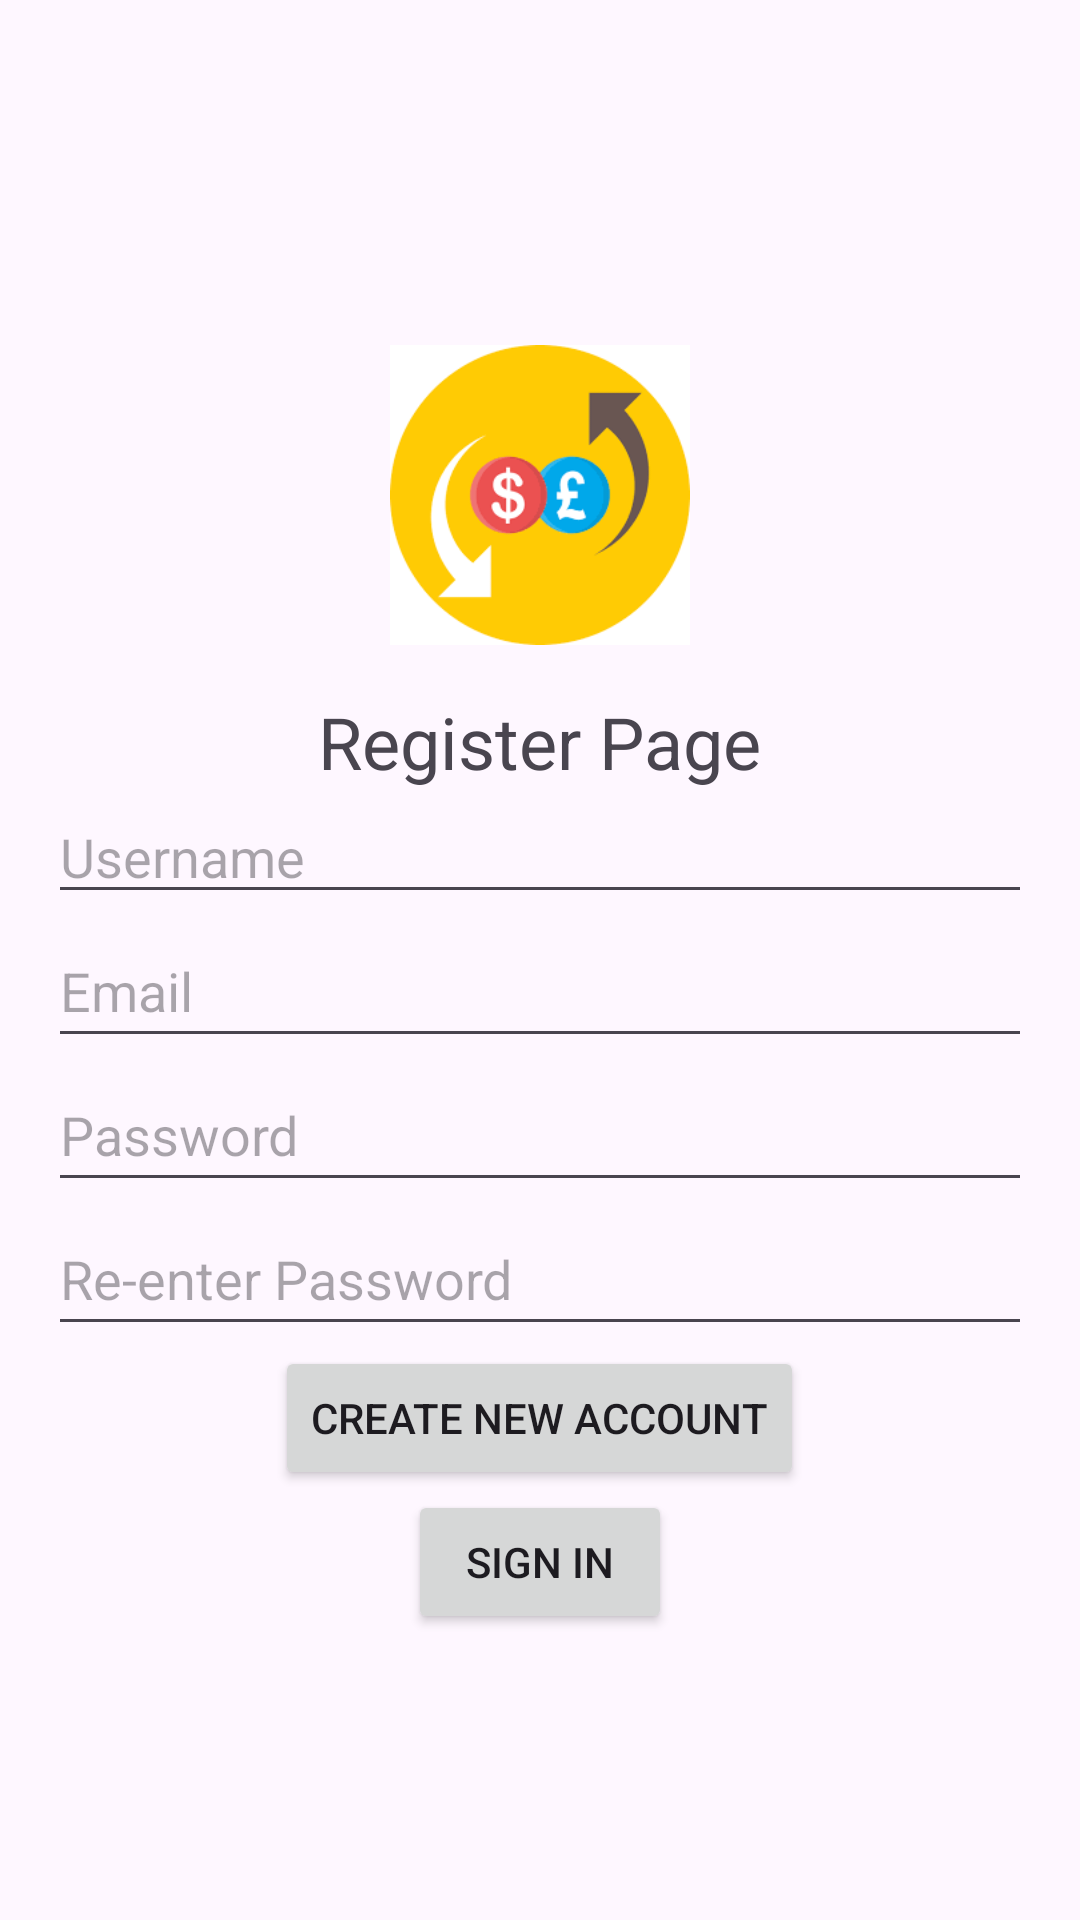

Screen size 1080px×1920px. Icon name, then its center in pixels as point (x, y):
converter: point (540, 495)
